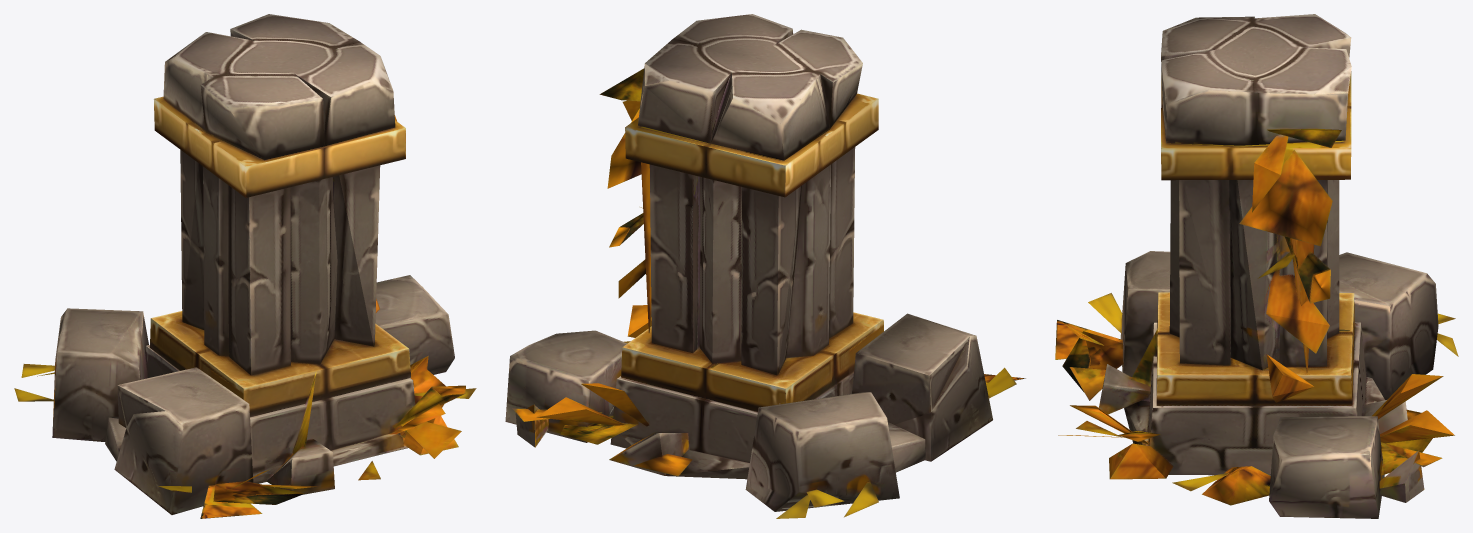
File: column.fbx
3 renders of one model, left to right at view 1: azimuth 30°, elevation 25°; view 2: azimuth 150°, elevation 25°; view 3: azimuth 270°, elevation 25°, orthographic. The views are drawn at different scales.
Visible parts, largest first — view 1: mesh_node; view 2: mesh_node; view 3: mesh_node.
Part boxes in pixels (left/top/right/bottom): mesh_node: left=14, top=14, right=476, bottom=518; mesh_node: left=505, top=14, right=1025, bottom=518; mesh_node: left=1055, top=14, right=1458, bottom=518.
Bounding box in the file's own units: 100 × 93.75 × 89.45.
1 material, 1 textured.
